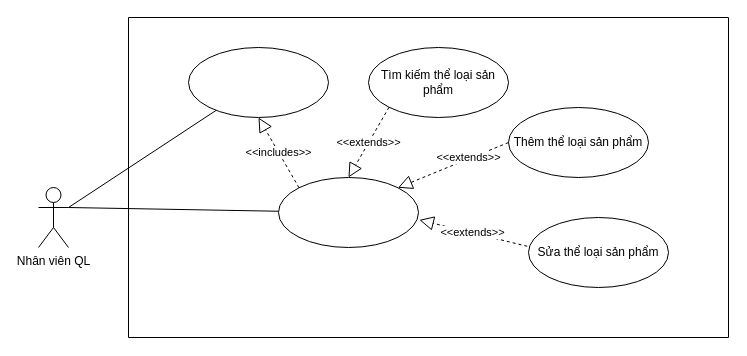
Image size: 747x356. Some labels were removed from this diagram. Each missing label, with the box of its shape:
Quản lý thể loại sản phẩm: (278, 176, 418, 248)
Đăng nhập: (188, 46, 328, 118)
